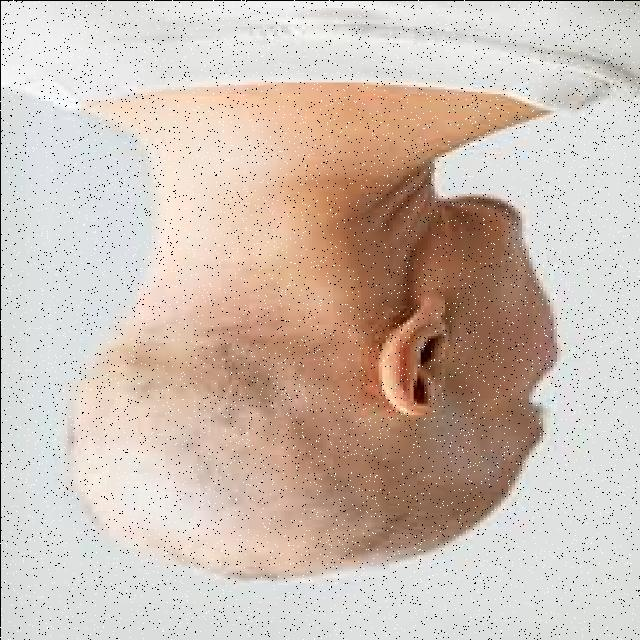Non_Helmet: (39, 160, 592, 604)
